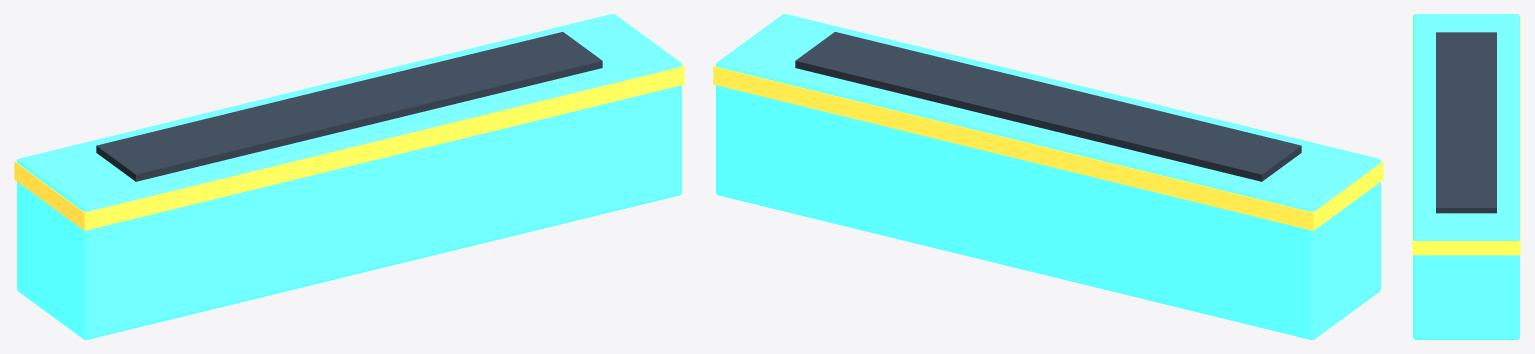
Rendered from bulk-container-v4-low.glb.
The picture shows the model from 3 angles, left to right: view 1: azimuth 30°, elevation 25°; view 2: azimuth 150°, elevation 25°; view 3: azimuth 270°, elevation 25°; orthographic projection. The views are drawn at different scales.
Visible parts, largest first — view 1: cont-shell.001, cont-hatch.001, cont-stripe-1.001; view 2: cont-shell.001, cont-hatch.001, cont-stripe-1.001; view 3: cont-shell.001, cont-hatch.001, cont-stripe-1.001.
Part boxes in pixels (box(x1,y1,x2,y2)): cont-shell.001: box(17, 14, 681, 339); cont-hatch.001: box(96, 32, 602, 181); cont-stripe-1.001: box(14, 64, 684, 230); cont-shell.001: box(716, 14, 1380, 339); cont-hatch.001: box(795, 32, 1301, 181); cont-stripe-1.001: box(713, 64, 1383, 230); cont-shell.001: box(1413, 14, 1519, 339); cont-hatch.001: box(1436, 32, 1496, 213); cont-stripe-1.001: box(1412, 15, 1520, 255).
Size of the model in its own units: 12.22 by 2.73 by 2.48.
